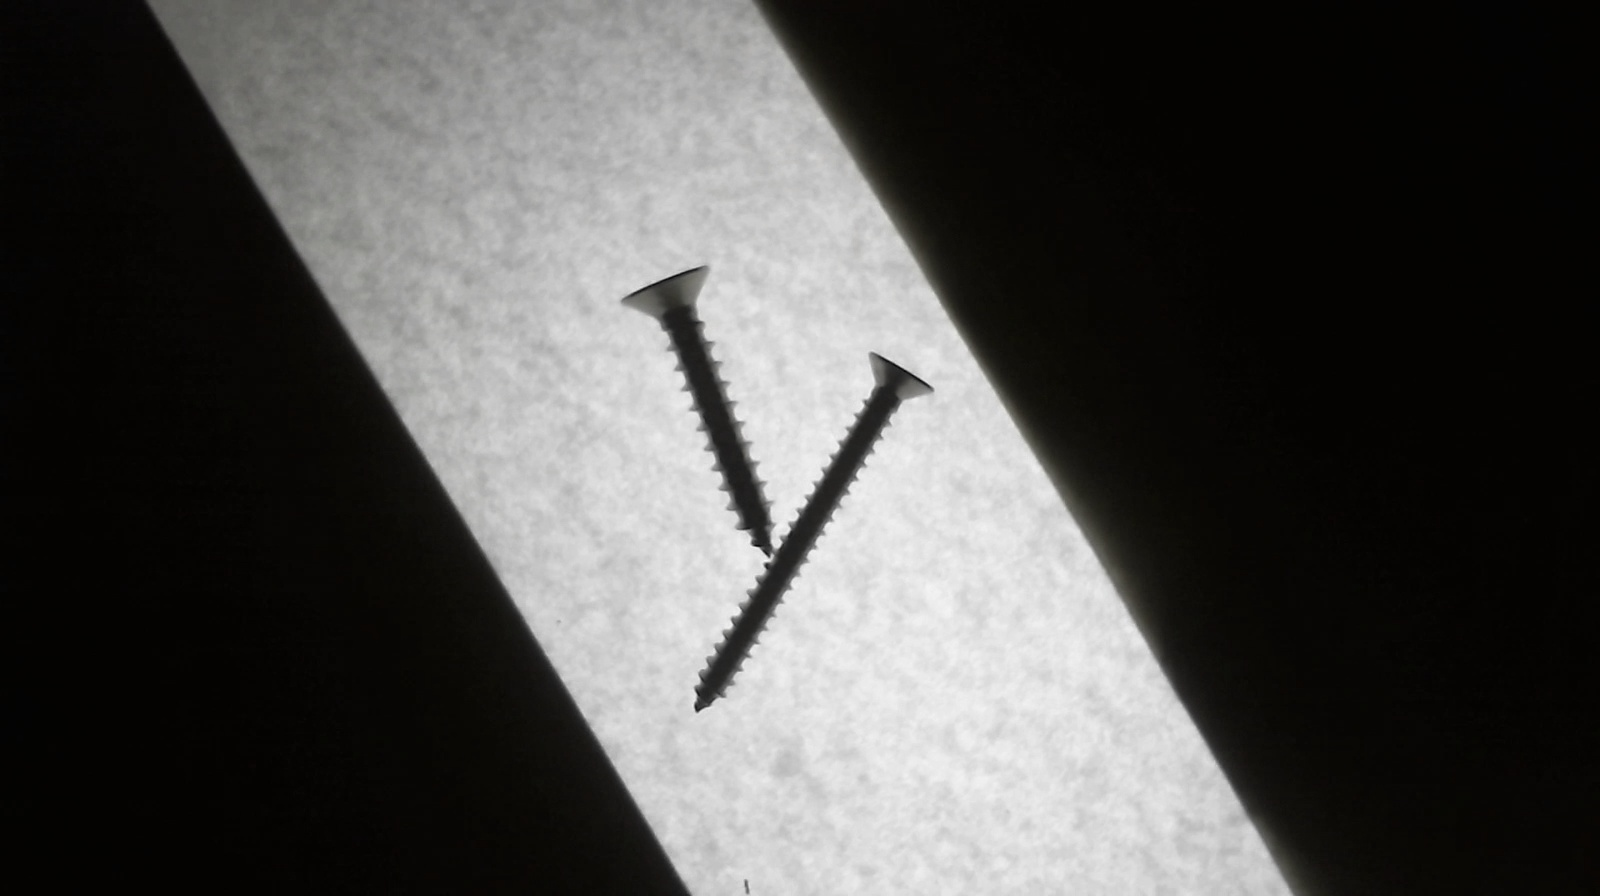S001: (607, 251, 780, 552)
S002: (681, 349, 929, 724)
